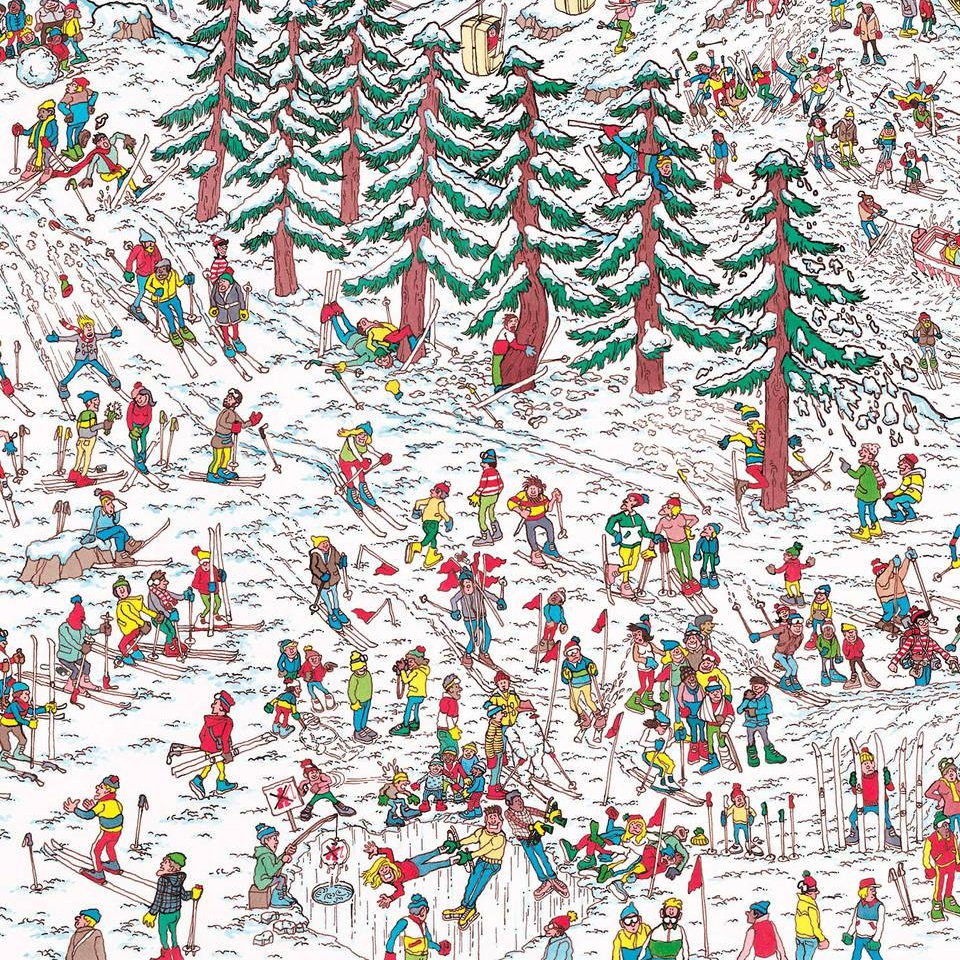waldo: (888, 606, 958, 691)
